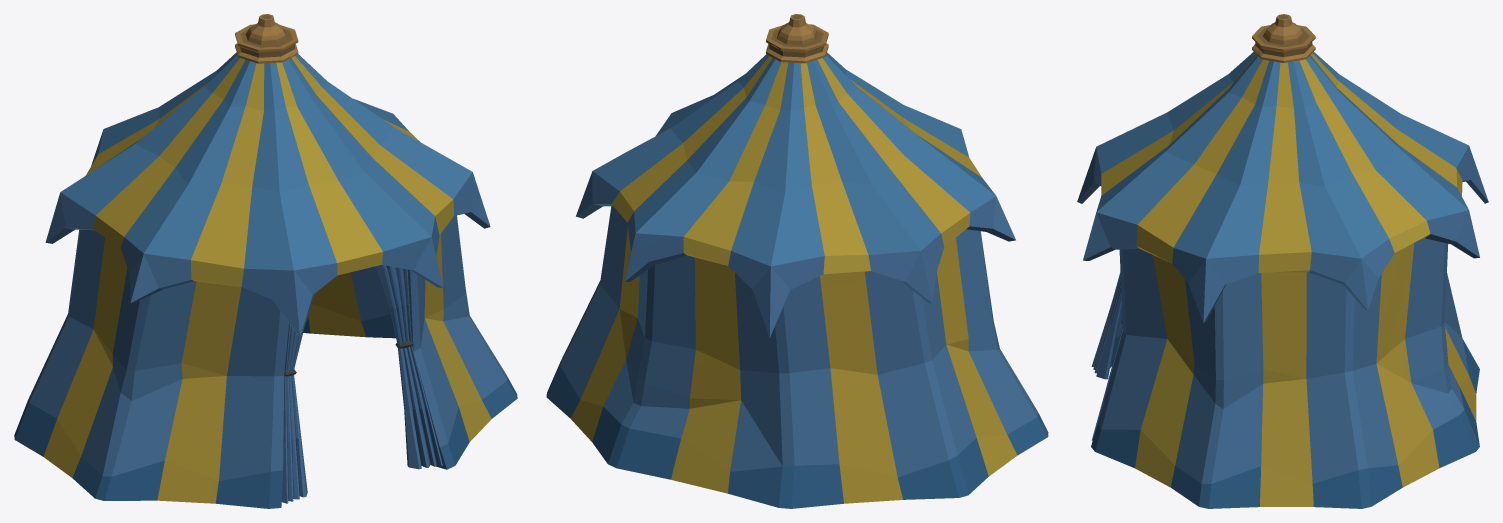
The model's file is tent.glb.
3 views of the same model, side by side, from view 1: azimuth 30°, elevation 25°; view 2: azimuth 150°, elevation 25°; view 3: azimuth 270°, elevation 25° (orthographic). The views are drawn at different scales.
Parts seen in each view (by area): view 1: SM_Prop_Tent_01; view 2: SM_Prop_Tent_01; view 3: SM_Prop_Tent_01.
Part boxes in pixels (x1,y1,x2,y2): SM_Prop_Tent_01: (14, 14, 517, 508); SM_Prop_Tent_01: (546, 14, 1048, 508); SM_Prop_Tent_01: (1077, 14, 1488, 508).
Size of the model in its own units: 512 by 462 by 441.
1 material, 1 textured.
